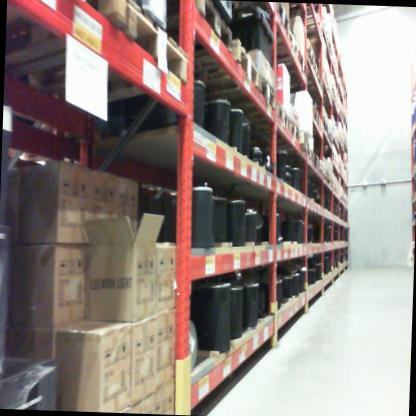pallet: (6, 0, 192, 117), (6, 0, 128, 80), (140, 0, 237, 74), (176, 39, 260, 98), (213, 71, 278, 116), (235, 2, 296, 39), (234, 99, 290, 134), (263, 49, 311, 83), (238, 34, 302, 59), (265, 132, 314, 162), (244, 121, 302, 145), (300, 39, 318, 65), (306, 146, 322, 171), (309, 108, 324, 133), (305, 59, 320, 80), (314, 156, 327, 179), (311, 78, 326, 96)
